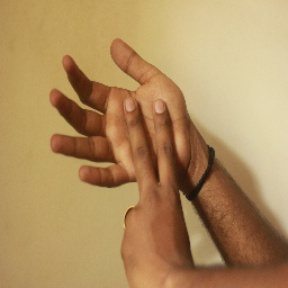N: (42, 34, 205, 249)
